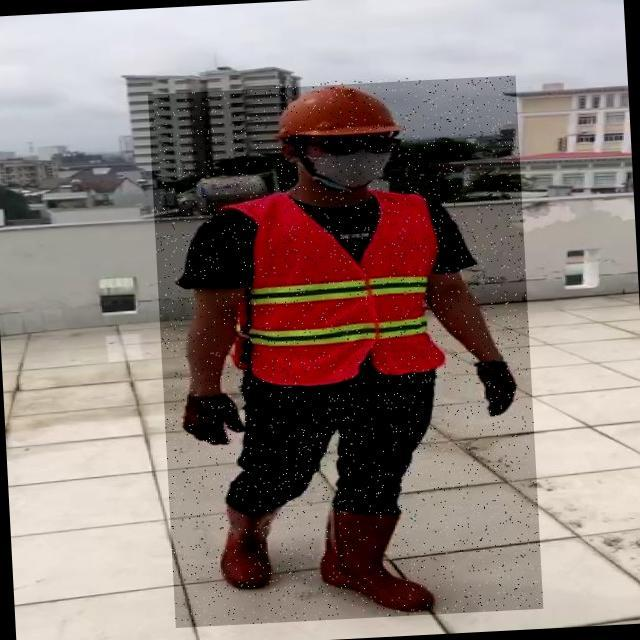Gloves: (184, 392, 247, 447), (475, 360, 522, 417)
Helmet: (265, 77, 414, 146)
Human: (149, 75, 544, 628)
Safety Boot: (313, 502, 437, 620), (216, 501, 286, 590)
Safety Vest: (223, 187, 446, 383)
